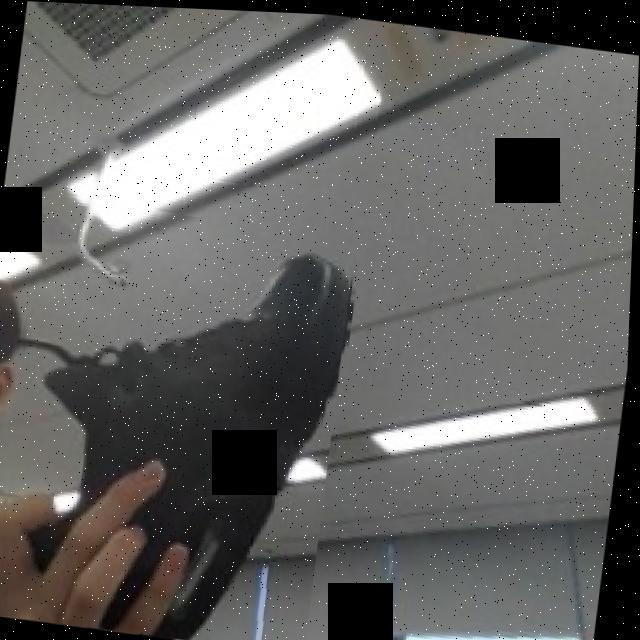shoe: (0, 187, 360, 640)
